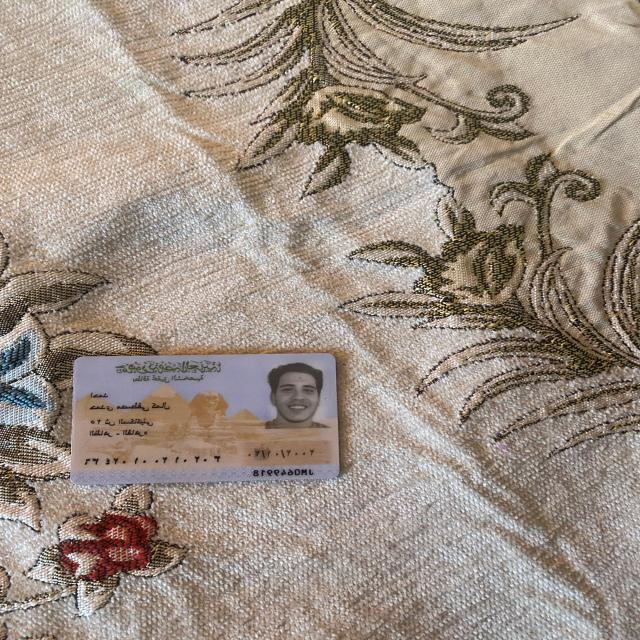id_card: (61, 346, 351, 499)
